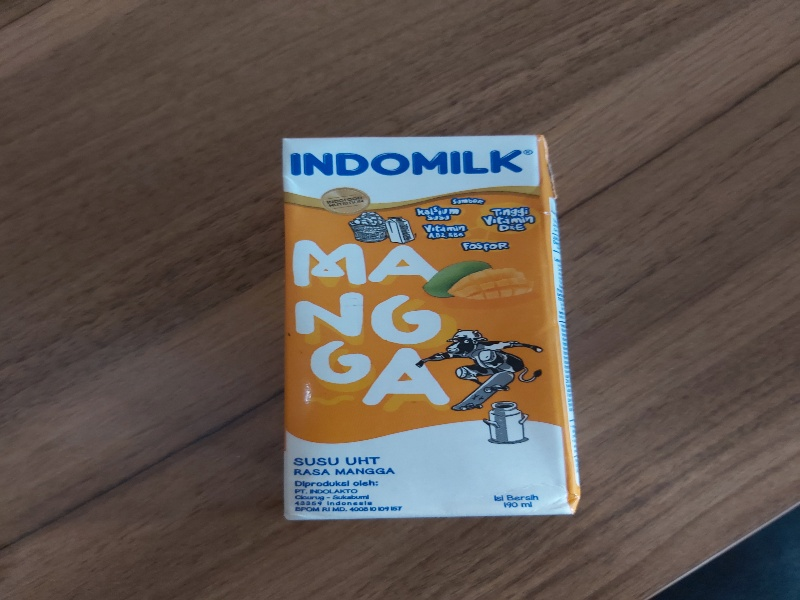mangga: (278, 132, 584, 525)
